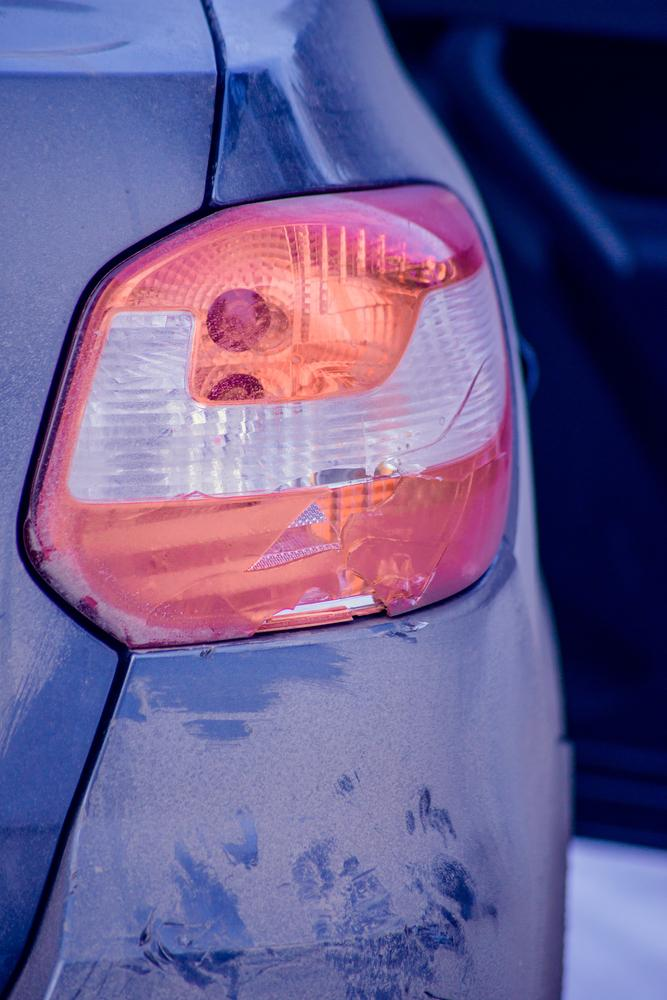lamp broken: (22, 182, 519, 648)
